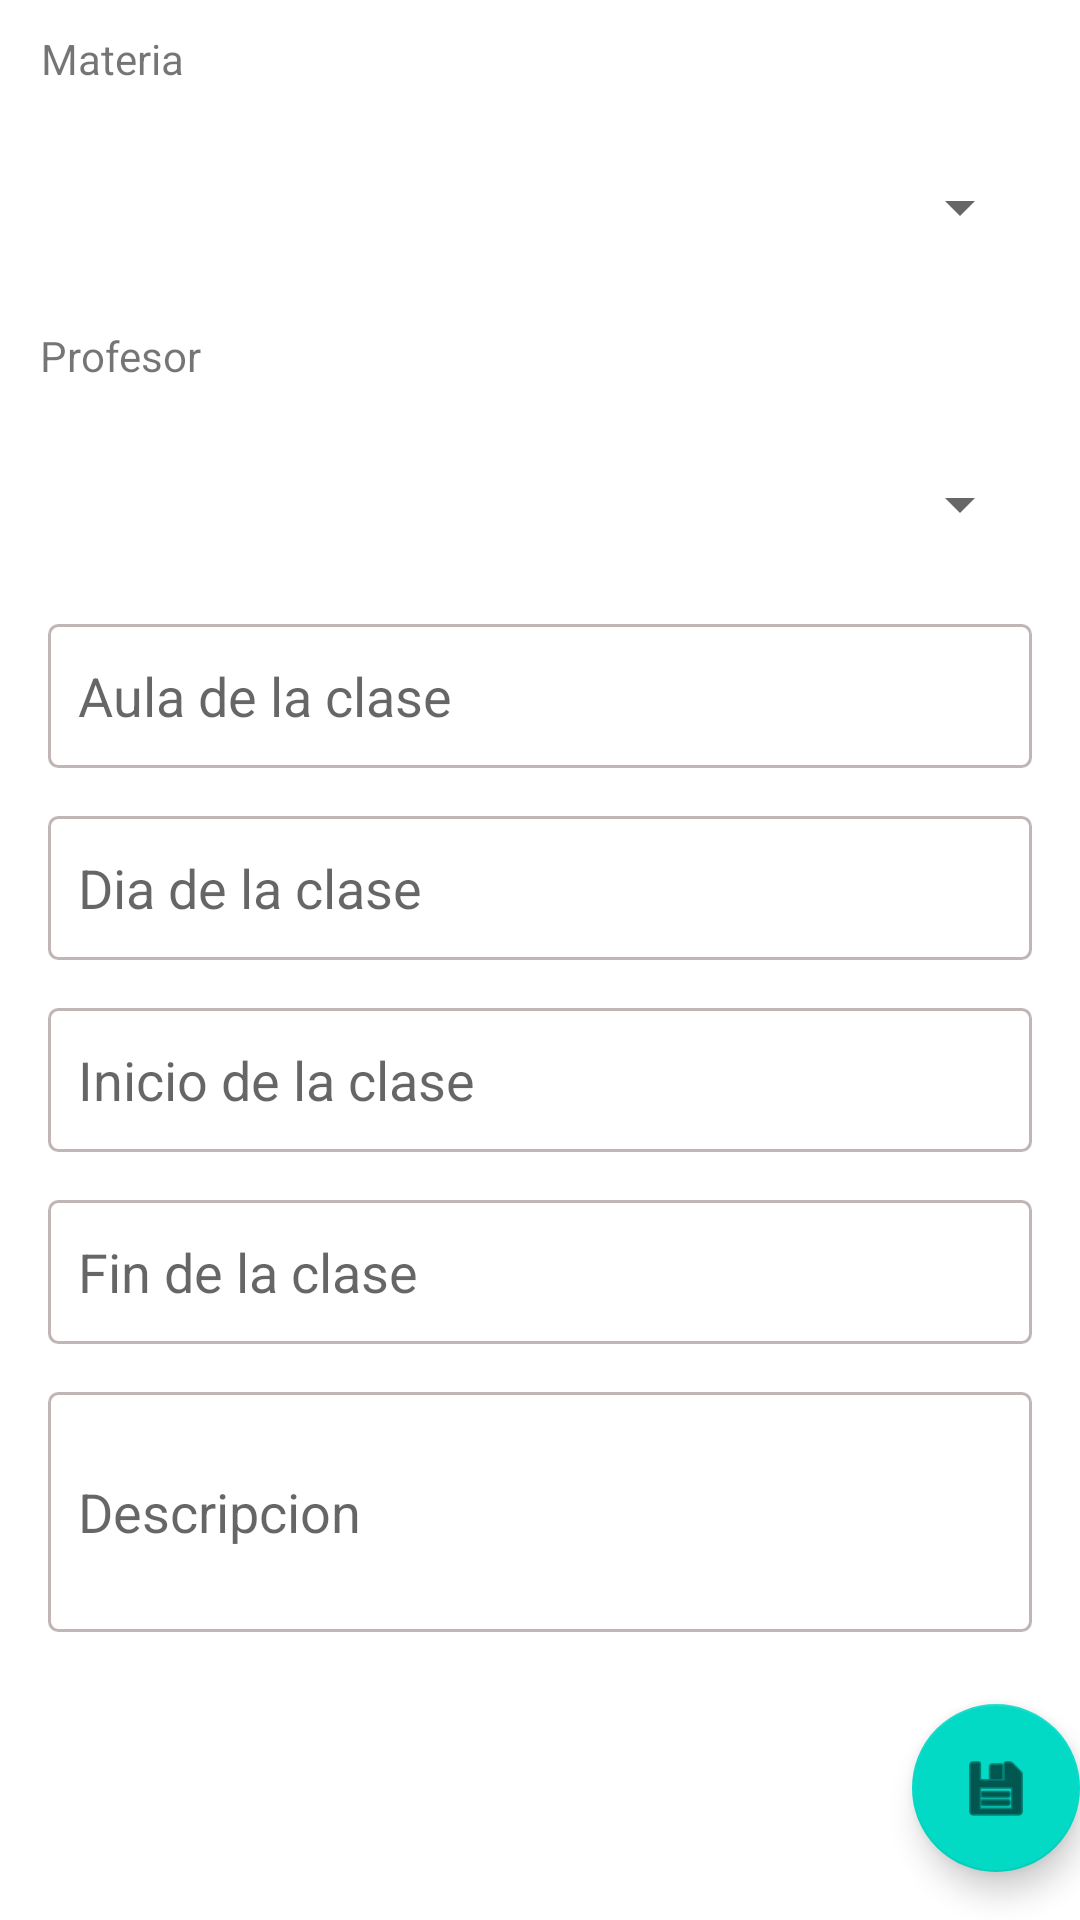

Named icons in this screenshot (1080x1920) and their bounding boxes, region(x1, y1, x2, y2):
save: region(912, 1704, 1080, 1872)
